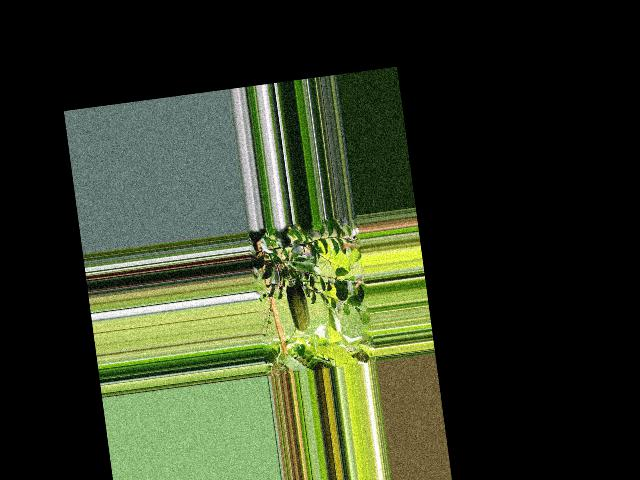cucumber: (284, 277, 310, 332)
